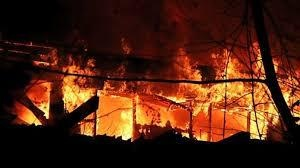fire: (51, 35, 297, 143)
